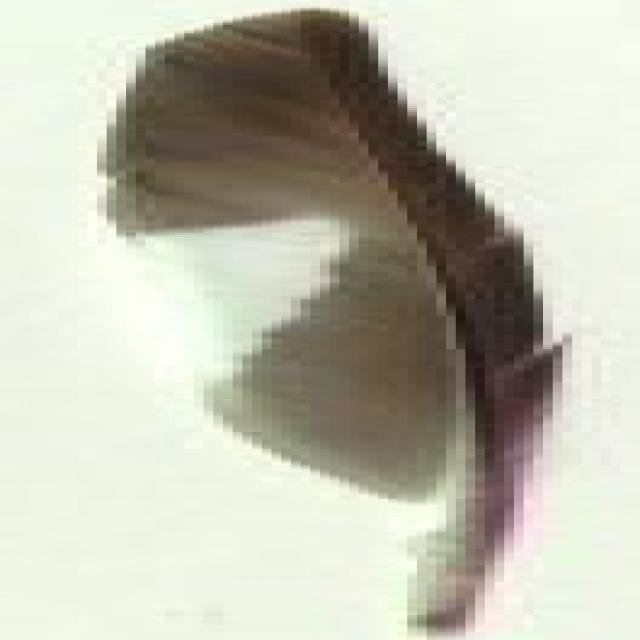feather: (97, 4, 537, 632)
